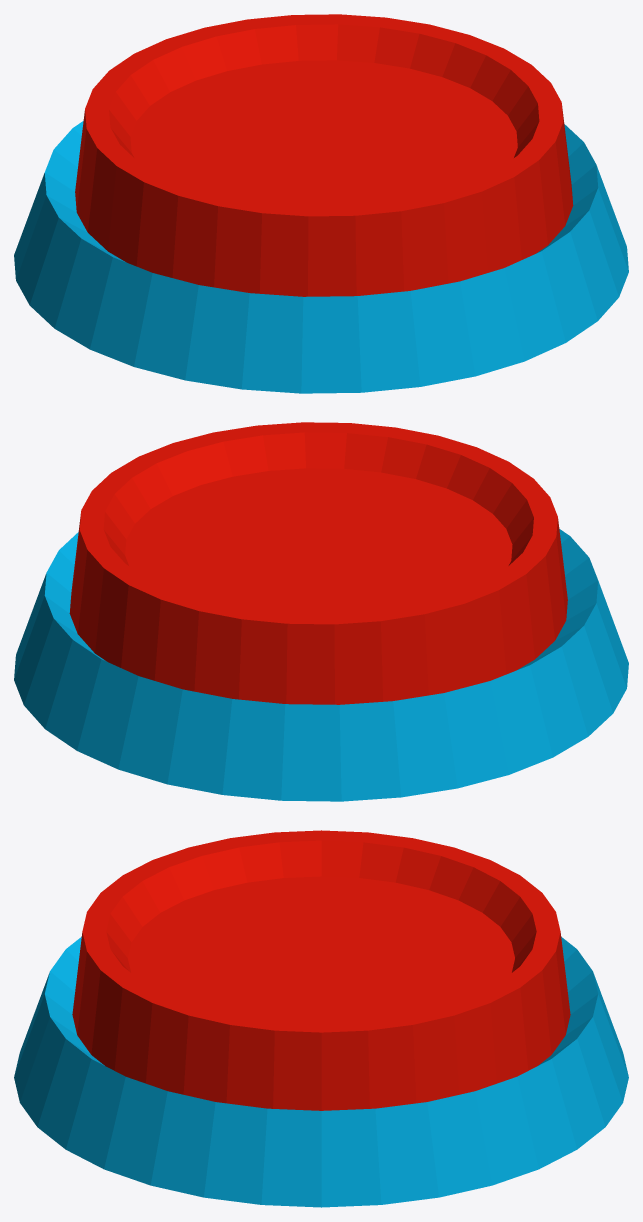
File: Button.fbx
The picture shows the model from 3 angles, top to bottom: view 1: azimuth 30°, elevation 25°; view 2: azimuth 150°, elevation 25°; view 3: azimuth 270°, elevation 25°; orthographic projection.
Parts seen in each view (by area): view 1: Cylinder.001, Cylinder; view 2: Cylinder.001, Cylinder; view 3: Cylinder.001, Cylinder.
Part boxes in pixels (left/top/right/bottom): Cylinder.001: left=75, top=14, right=573, bottom=296; Cylinder: left=14, top=121, right=628, bottom=393; Cylinder.001: left=69, top=422, right=567, bottom=704; Cylinder: left=14, top=529, right=628, bottom=801; Cylinder.001: left=72, top=830, right=570, bottom=1110; Cylinder: left=14, top=937, right=628, bottom=1207.
Bounding box in the file's own units: 200 × 52.87 × 200.
